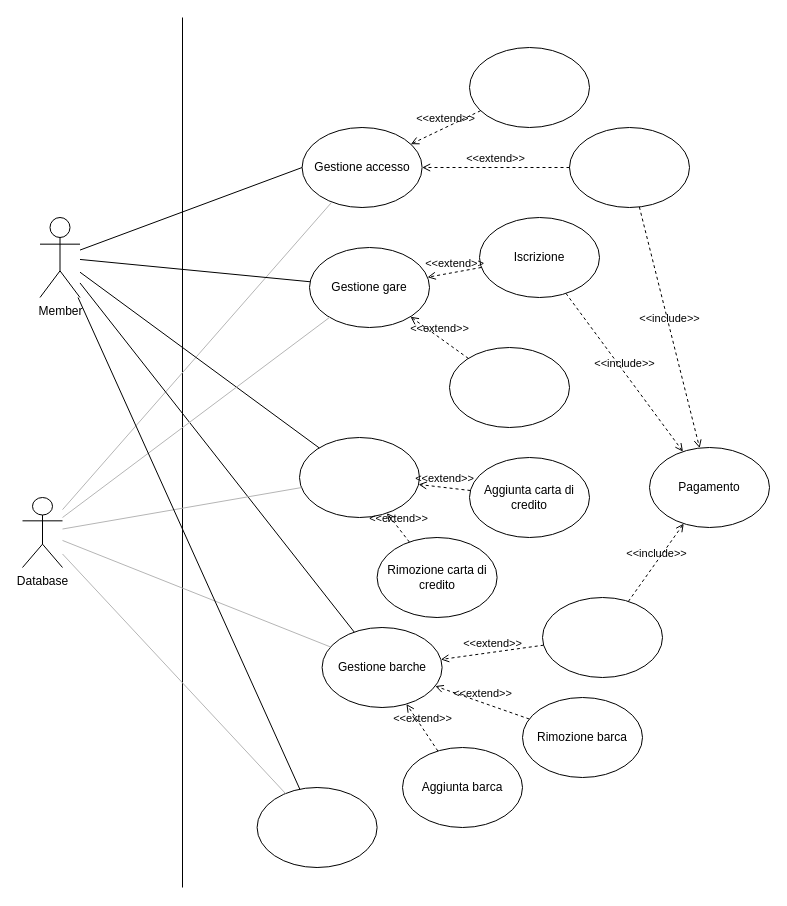
Image size: 787x906. Some labels were removed from this diagram. Each missing label, with the box of its shape:
Accesso: (468, 46, 590, 128)
Annulamento iscrizione: (448, 346, 570, 428)
Gestione carte di credito: (298, 436, 420, 518)
Pagamento barca: (542, 596, 662, 678)
Registrazione: (568, 126, 690, 208)
Visualizzazione notifiche: (256, 786, 377, 868)
